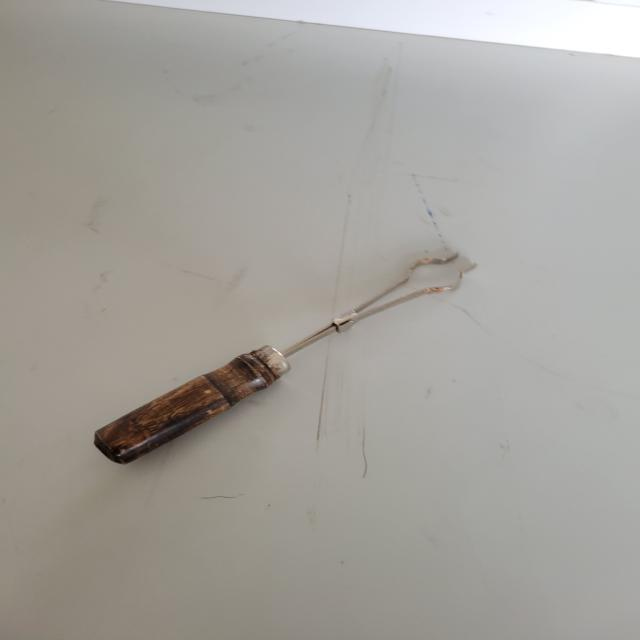TestTube_Holder: (47, 205, 490, 480)
